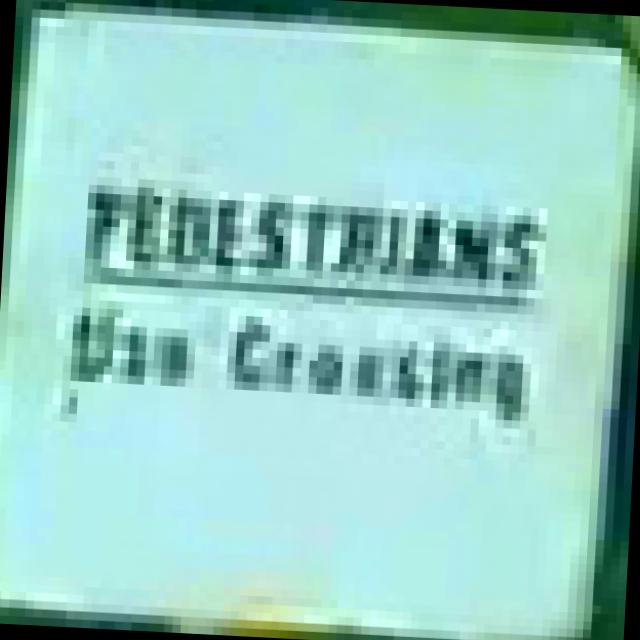pedestriancrossing_sign: (0, 0, 640, 640), (61, 168, 548, 422), (76, 168, 548, 299), (61, 298, 534, 422)
